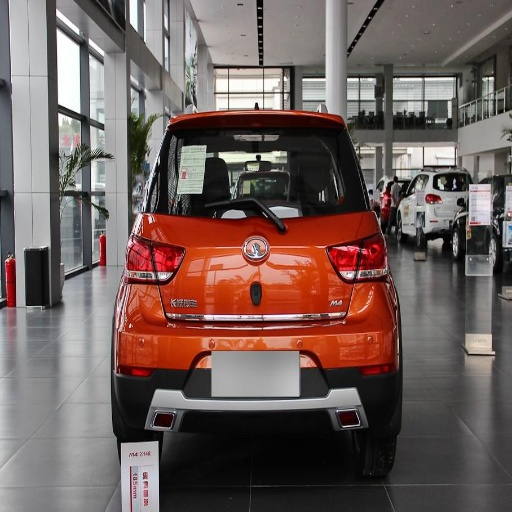back_bumper: (119, 279, 400, 430)
trunk: (132, 214, 376, 362)
